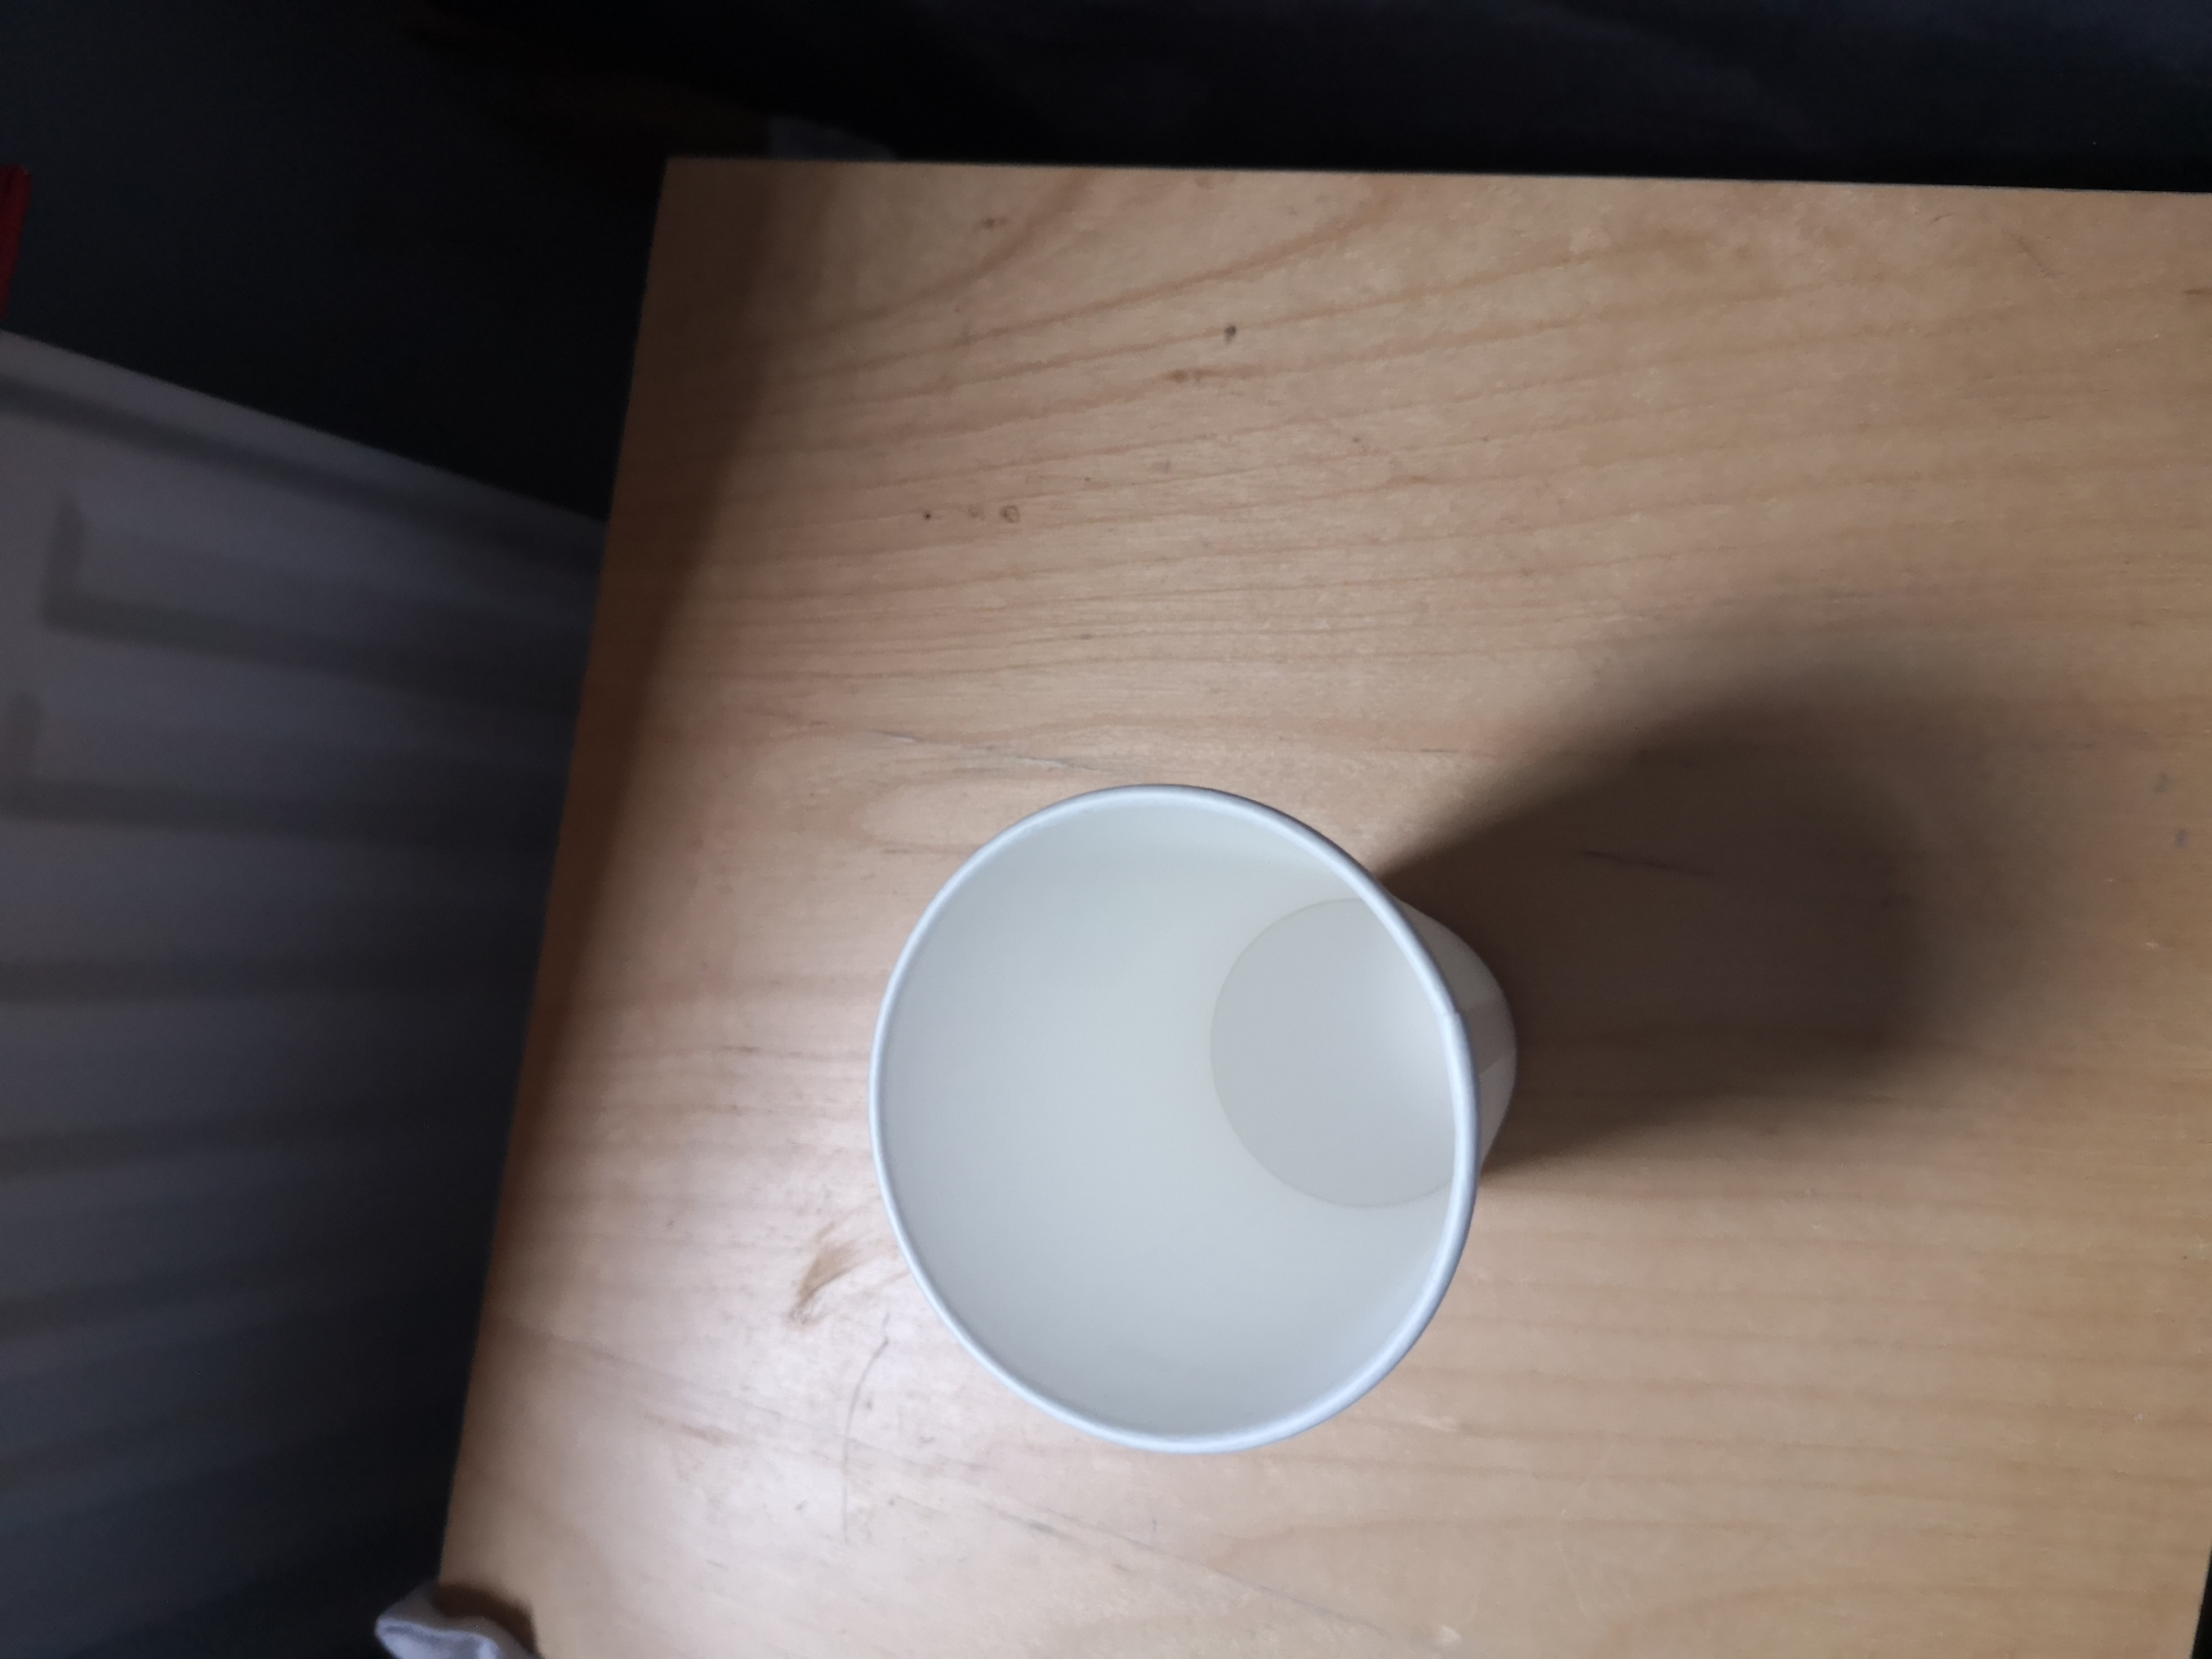cup: (850, 760, 1548, 1490)
